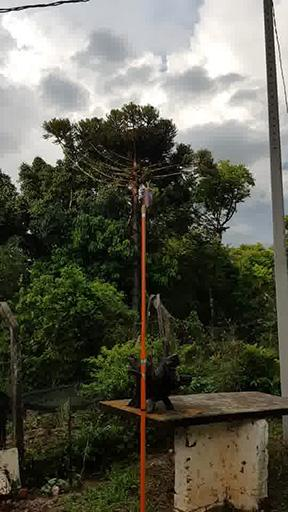Detector_Tensao_Contato: (143, 180, 152, 209)
Vara_Manobra: (140, 208, 146, 511)
